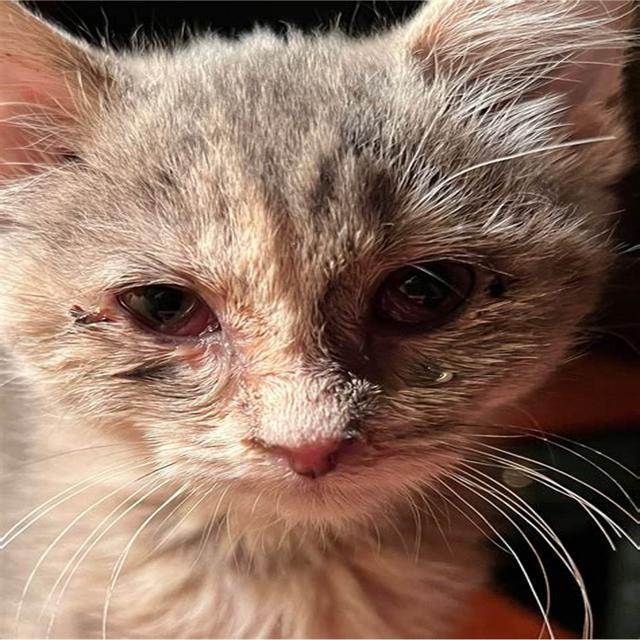eye_infection: (382, 261, 469, 325), (125, 287, 222, 343)
